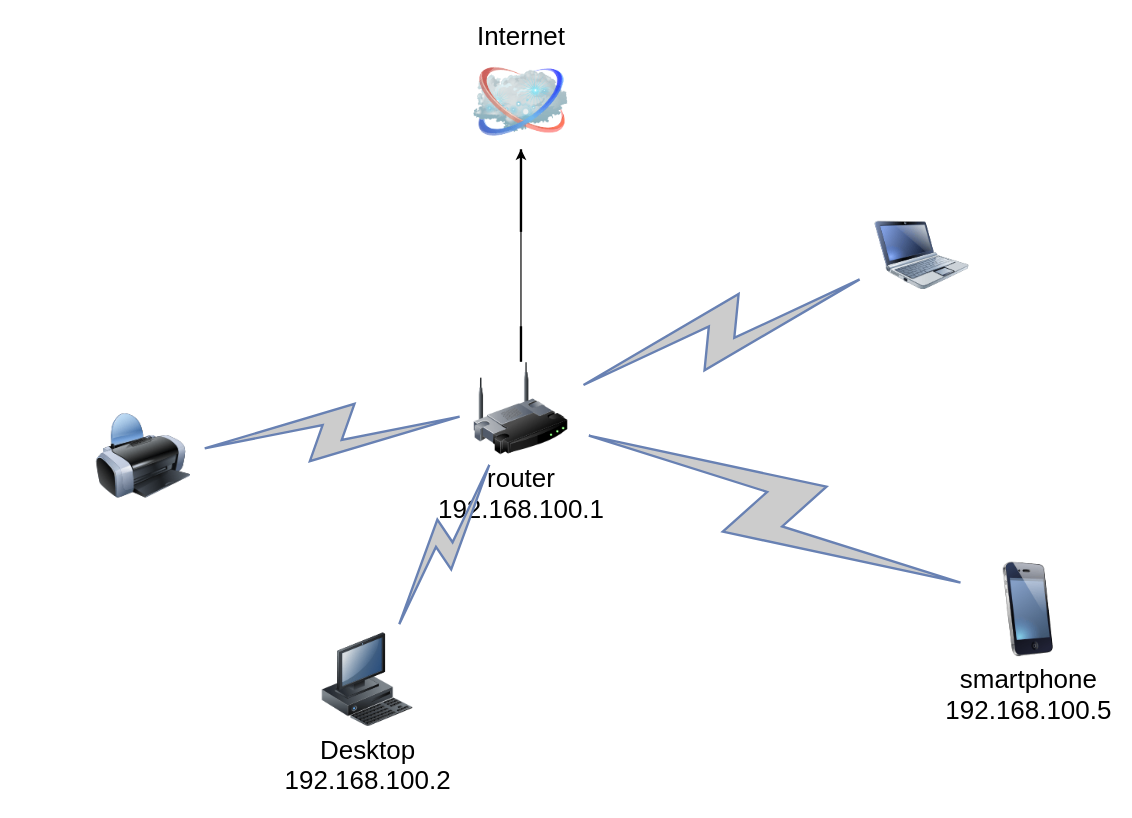
Some shapes in this 1132 by 818 pixel diagram are drawn without their labels. The shapes that lost their labels are listed below. From the top down, each one's centre as x and y in pixels, then its label:
At point (921, 255): "notebook 192.168.100.3".
At point (143, 455): "printer 192.168.100.4".
